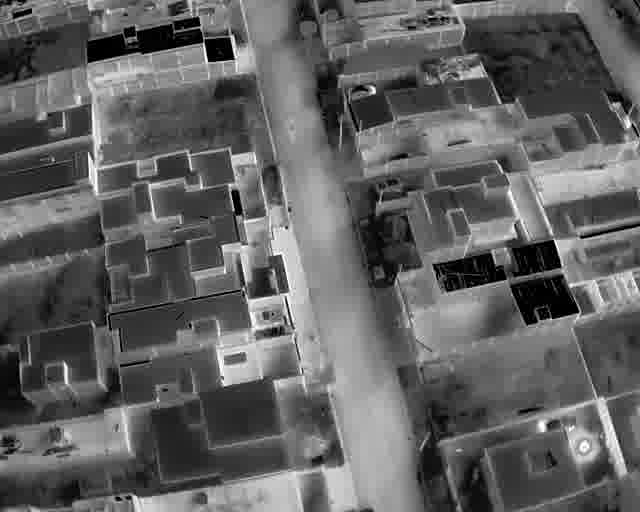car: (374, 176, 403, 194), (347, 83, 376, 100), (384, 152, 414, 161)
